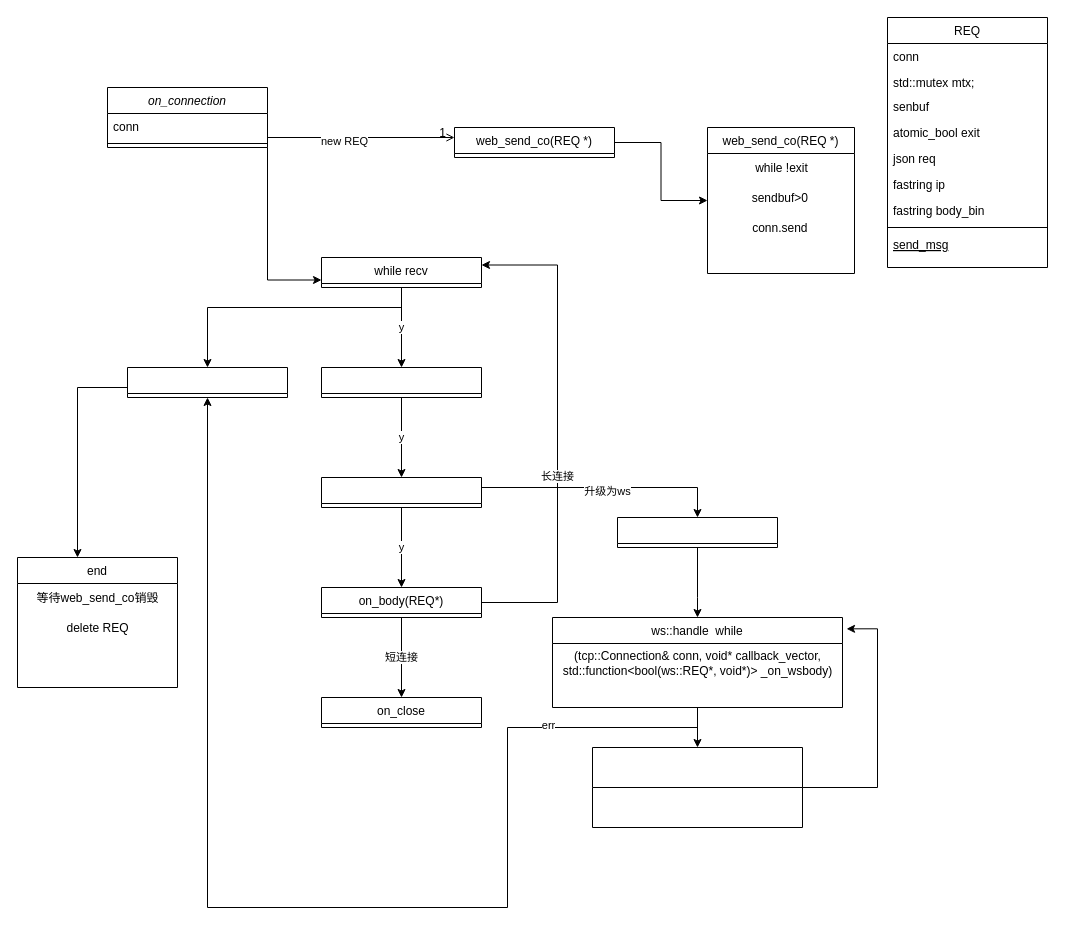
The diagram is 1065 pixels wide and 933 high, and some of its shapes have lost their labels. The centre of each missing label's shape, as x and y in pixels:
"on_connect(REQ*)" belongs at (x=401, y=382).
"on_err" belongs at (x=207, y=382).
"on_header(REQ*)" belongs at (x=401, y=492).
"on_wsbody (ws::REQ* req,void* callback_vector);" belongs at (x=697, y=787).
"on_wsupgrade(REQ*)" belongs at (x=697, y=532).
